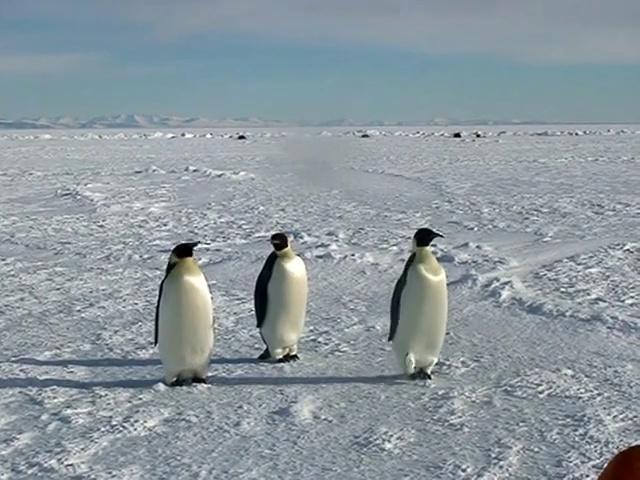animal: (390, 229, 449, 380)
